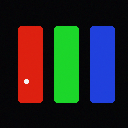0 point: (24, 79, 28, 83)
